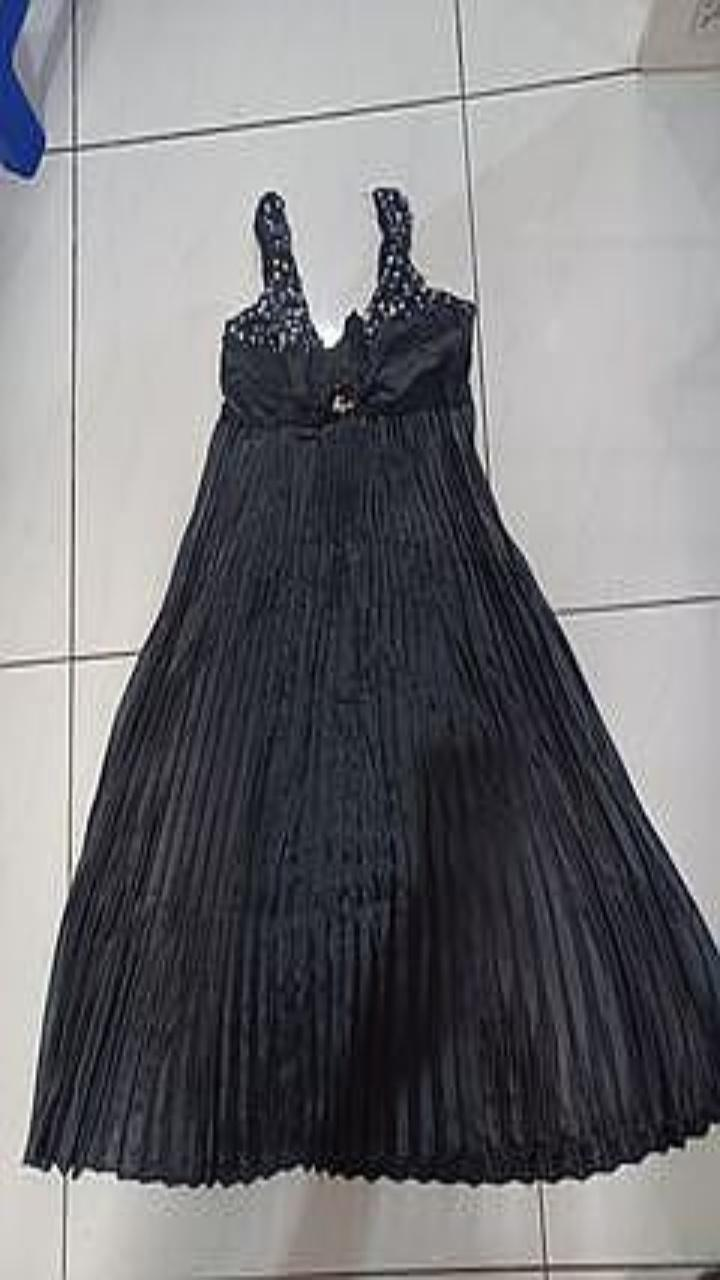Dresses: (23, 187, 719, 1184)
